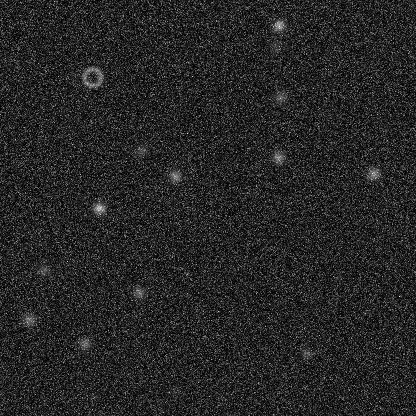Ring: (80, 65, 104, 89)
Spot: (298, 345, 314, 361), (271, 89, 287, 105), (86, 388, 102, 404), (76, 335, 92, 351), (268, 38, 284, 54), (132, 142, 148, 158), (90, 200, 106, 216), (21, 311, 37, 327), (167, 383, 183, 399), (365, 165, 381, 181), (270, 149, 286, 165), (271, 17, 287, 33), (167, 167, 183, 183), (35, 261, 51, 277), (131, 284, 147, 300)
